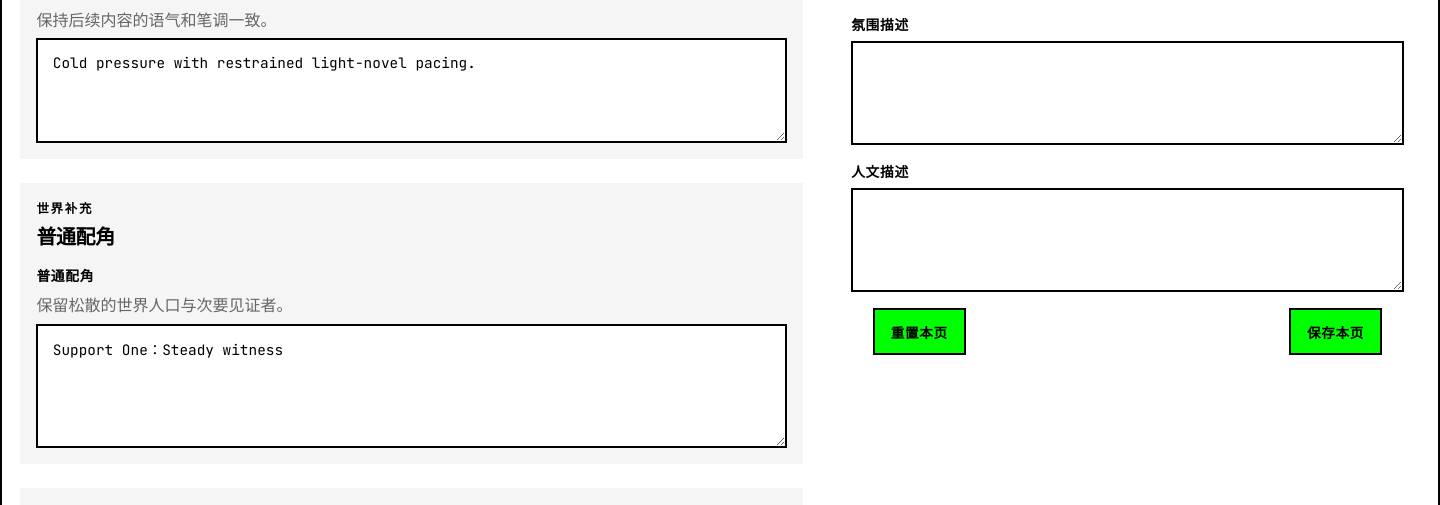
EditWorkbench › shows localized save-warning and reset status copy above the current page content
The width and height of the screenshot is (1440, 505).
(page scrolled)
What coordinates should you click on to do the following:
click the button "保存本页"
I would click on:
 (1335, 332)
Its box is [1289,308,1382,355].
(page scrolled)
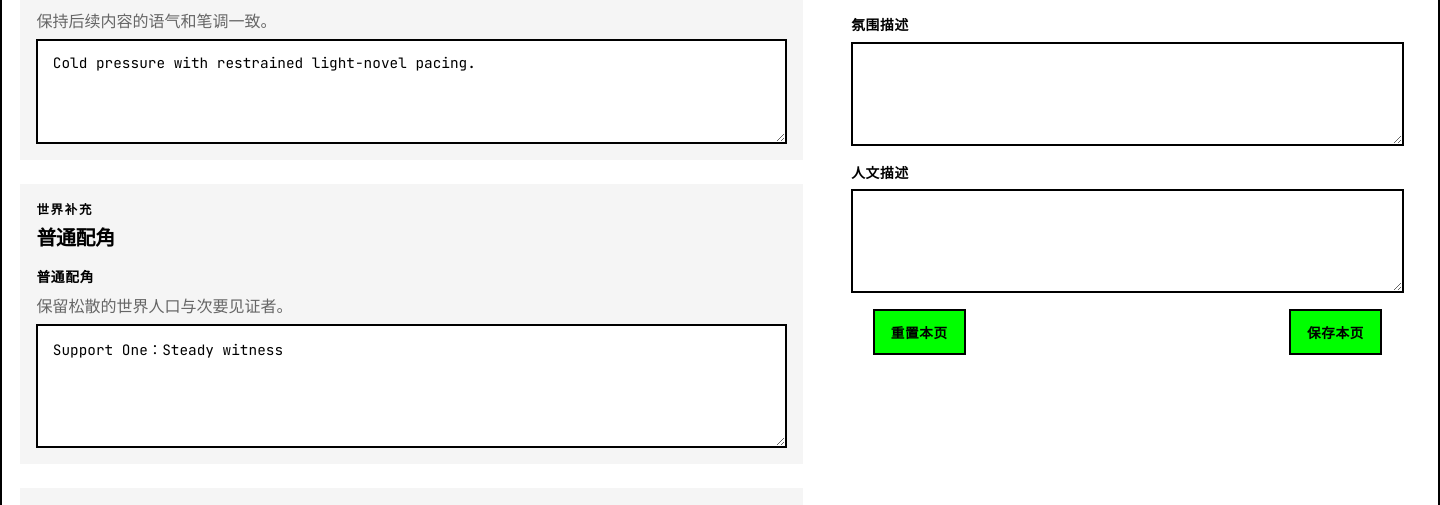
What coordinates should you click on to do the following:
click the button "重置本页"
I would click on:
 (919, 332)
Its box is [873,309,966,355].
(page scrolled)
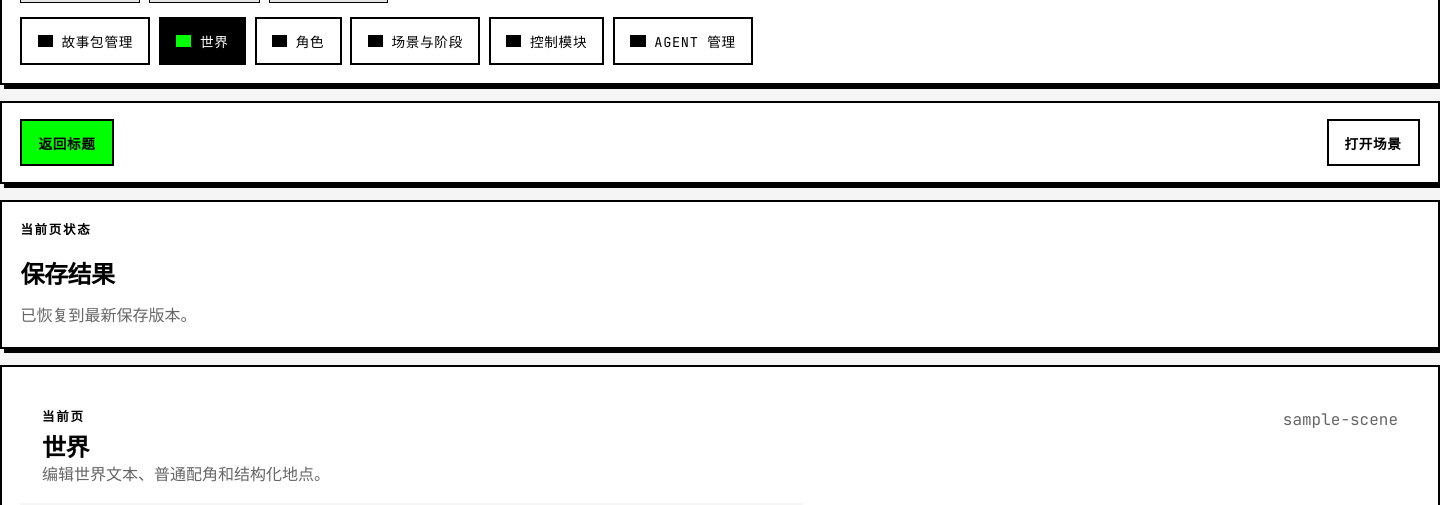
Result: the text "已恢复到最新保存版本。" is shown at [20,305,196,326]
